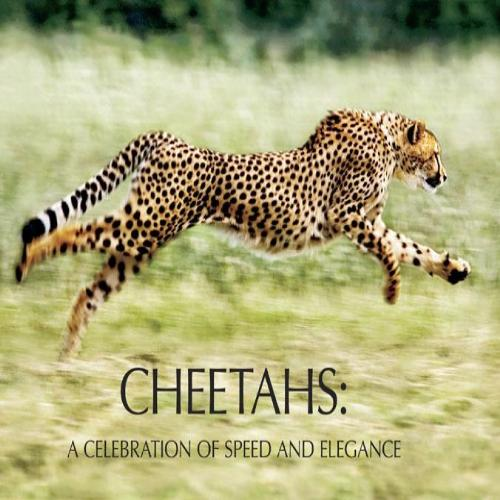cheetah-endangered: (17, 105, 473, 354)
